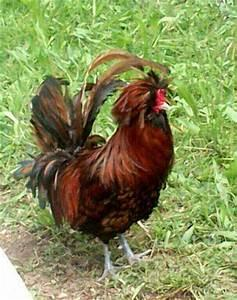hen: (13, 49, 176, 283)
